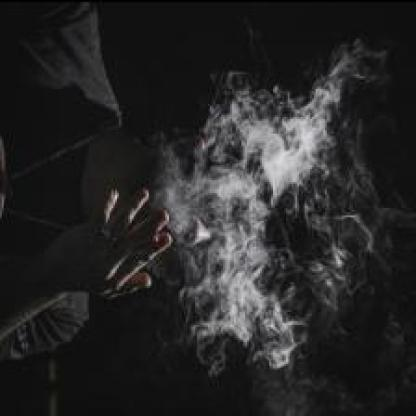Smoke: (146, 39, 416, 416)
